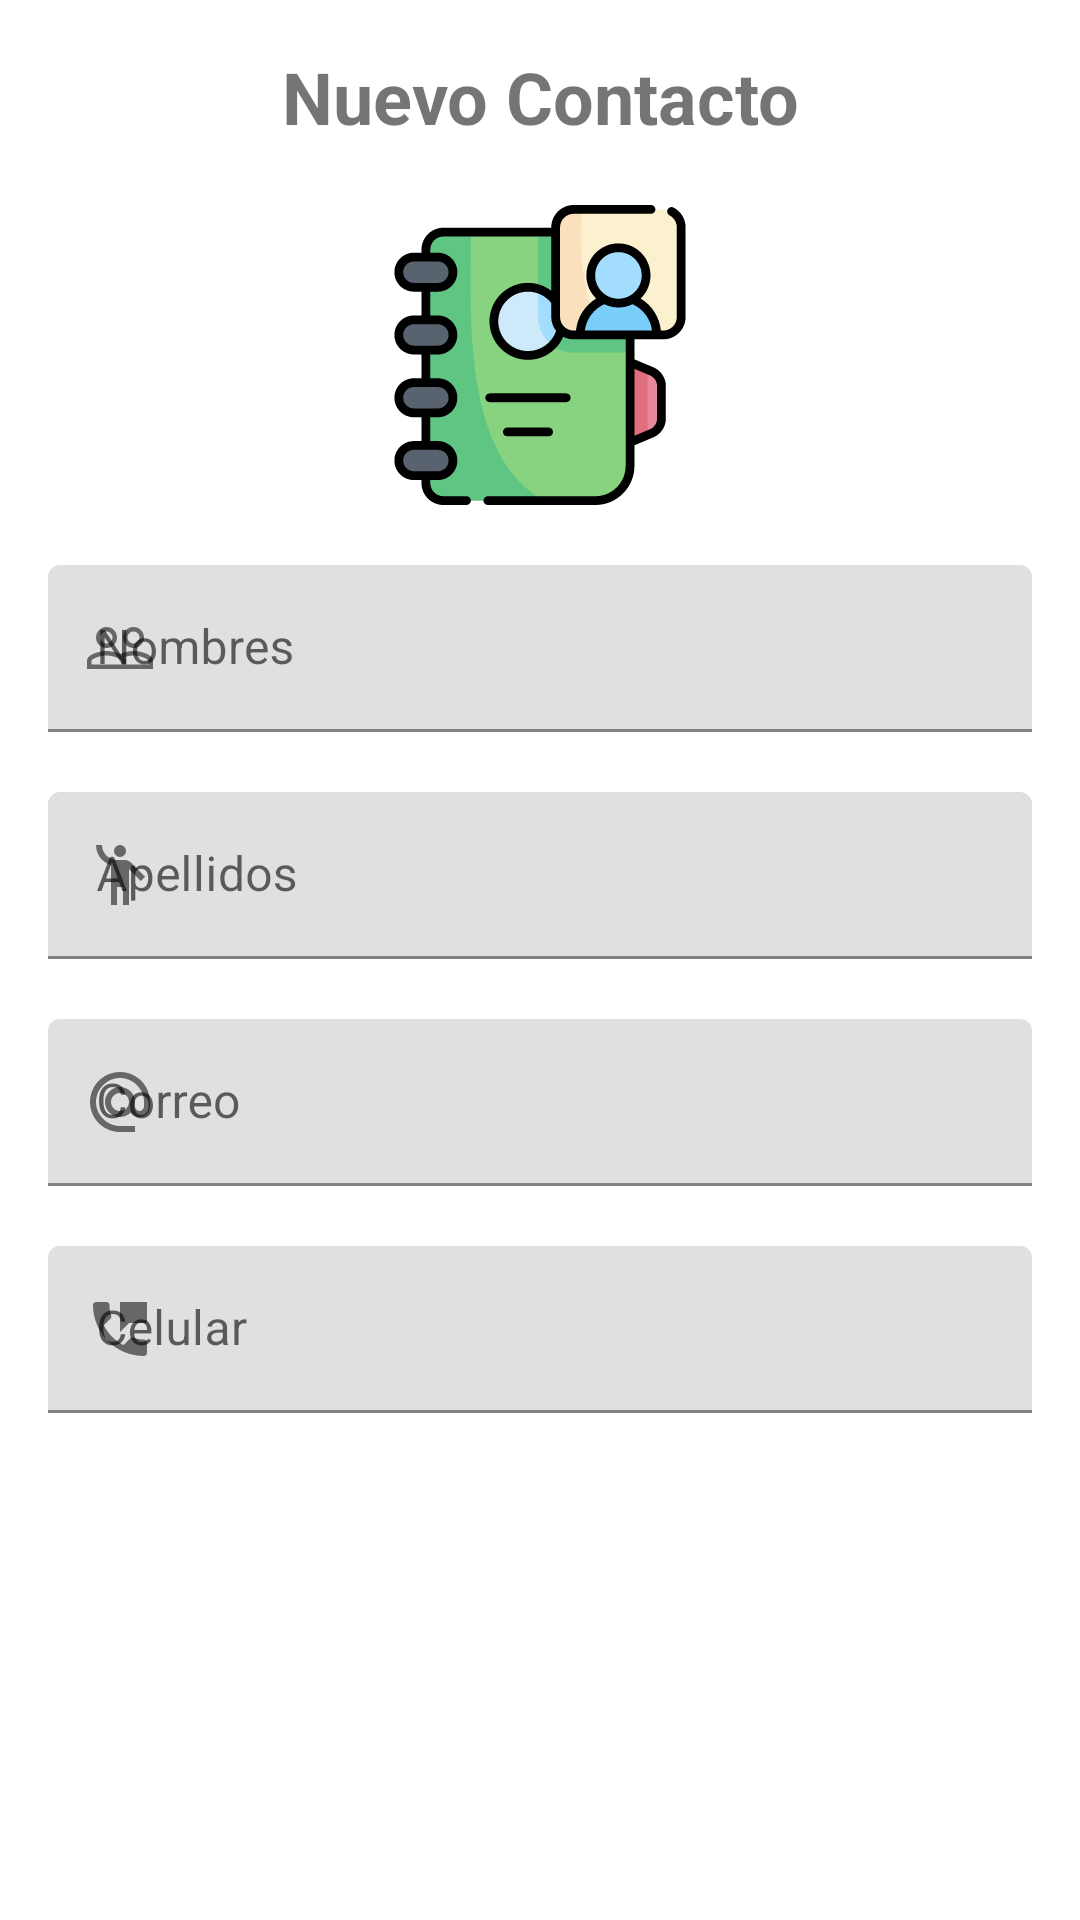

Named icons in this screenshot (1080 x 1920) and their bounding boxes, (x1, y1, x2, y2):
agenda: (394, 205, 686, 505)
